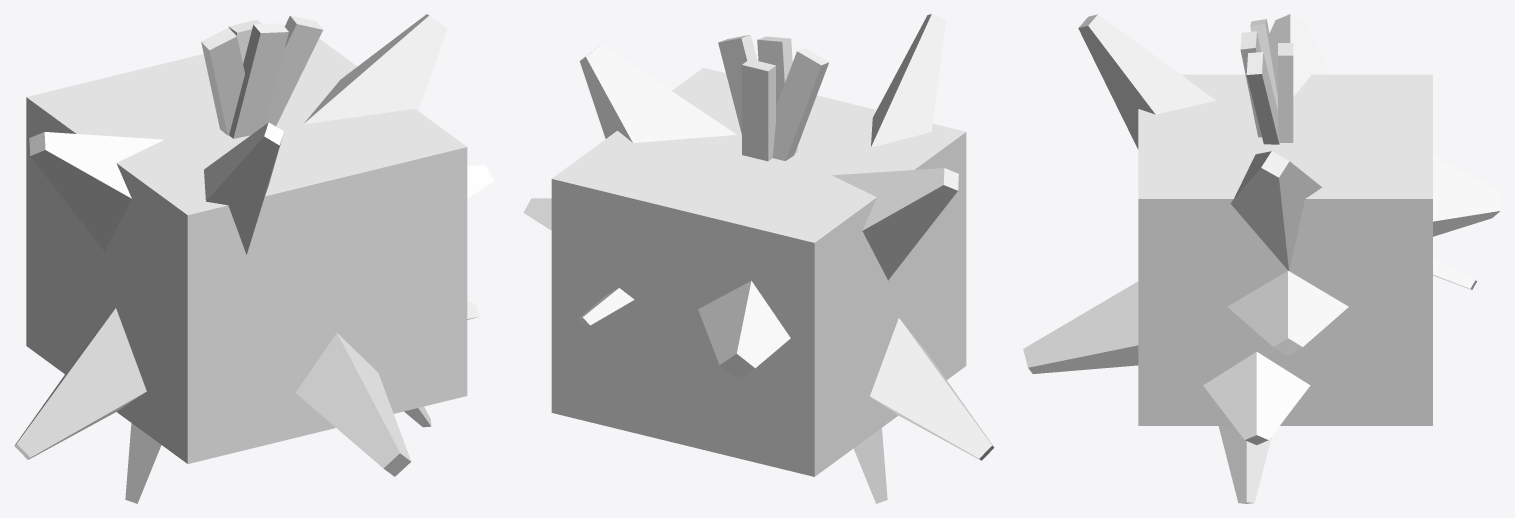
The model's file is tamato.obj.
The picture shows the model from 3 angles, left to right: view 1: azimuth 30°, elevation 25°; view 2: azimuth 150°, elevation 25°; view 3: azimuth 270°, elevation 25°; orthographic projection. The views are drawn at different scales.
Parts seen in each view (by area): view 1: Cube; view 2: Cube; view 3: Cube.
Part boxes in pixels (box(x1,y1,x2,y2)): Cube: box(14, 14, 494, 503); Cube: box(523, 14, 994, 503); Cube: box(1023, 14, 1500, 503).
Size of the model in its own units: 0.464 by 0.4204 by 0.4378.
